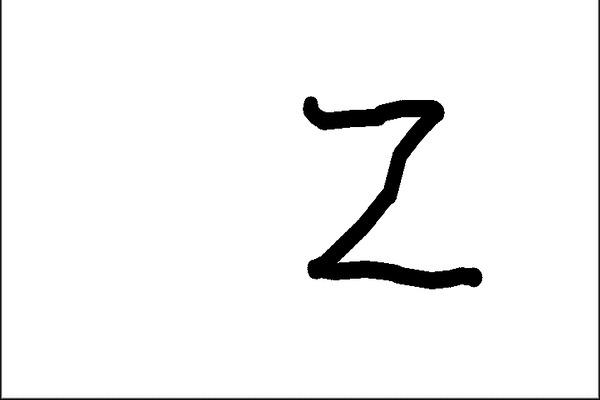Z: (291, 83, 495, 293)
